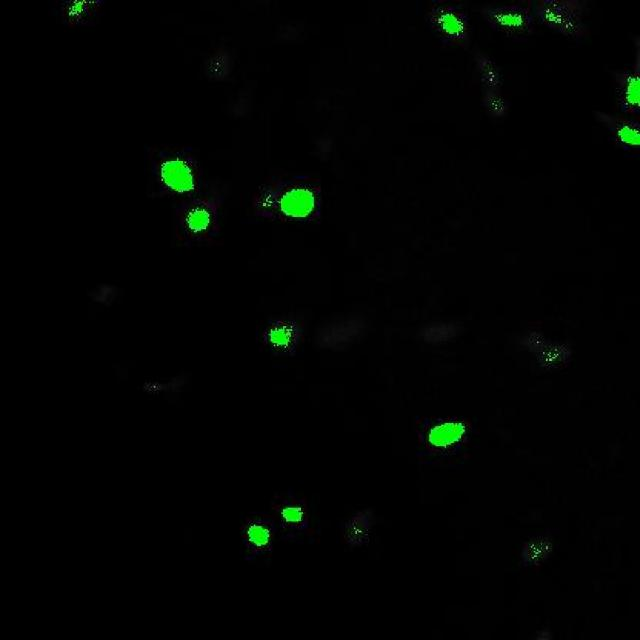Cell: (163, 158, 193, 196), (277, 190, 315, 219), (431, 422, 466, 448), (187, 207, 209, 237), (439, 14, 465, 37), (270, 324, 293, 349), (248, 524, 268, 546), (618, 126, 640, 146)
